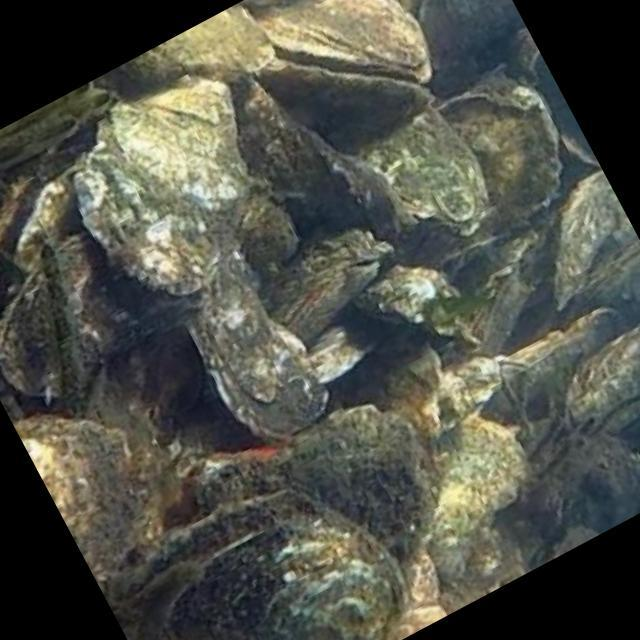Oyster- Indeterminate: (375, 61, 585, 305), (57, 70, 273, 305), (189, 375, 444, 562), (127, 489, 408, 640), (155, 253, 346, 454), (11, 396, 154, 594), (389, 404, 537, 588), (357, 98, 502, 259), (248, 50, 435, 160), (533, 162, 625, 313)
Oyster-Closed: (189, 57, 412, 285), (468, 298, 632, 428), (561, 328, 640, 434), (490, 350, 525, 385)
Oyster-Open: (247, 194, 401, 349)
